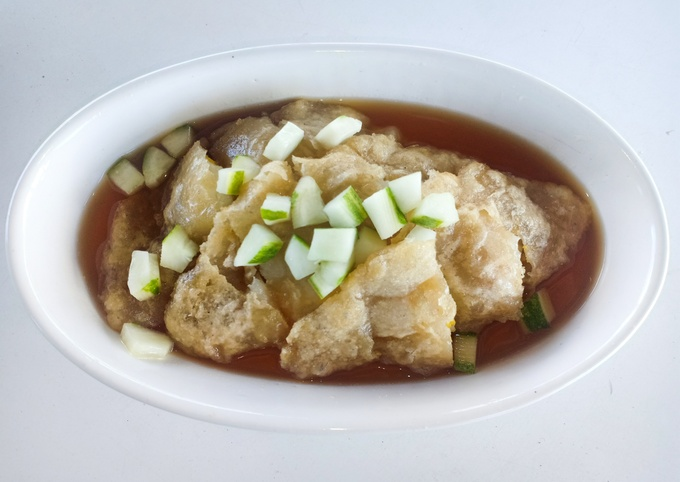pempek: (99, 95, 593, 376)
